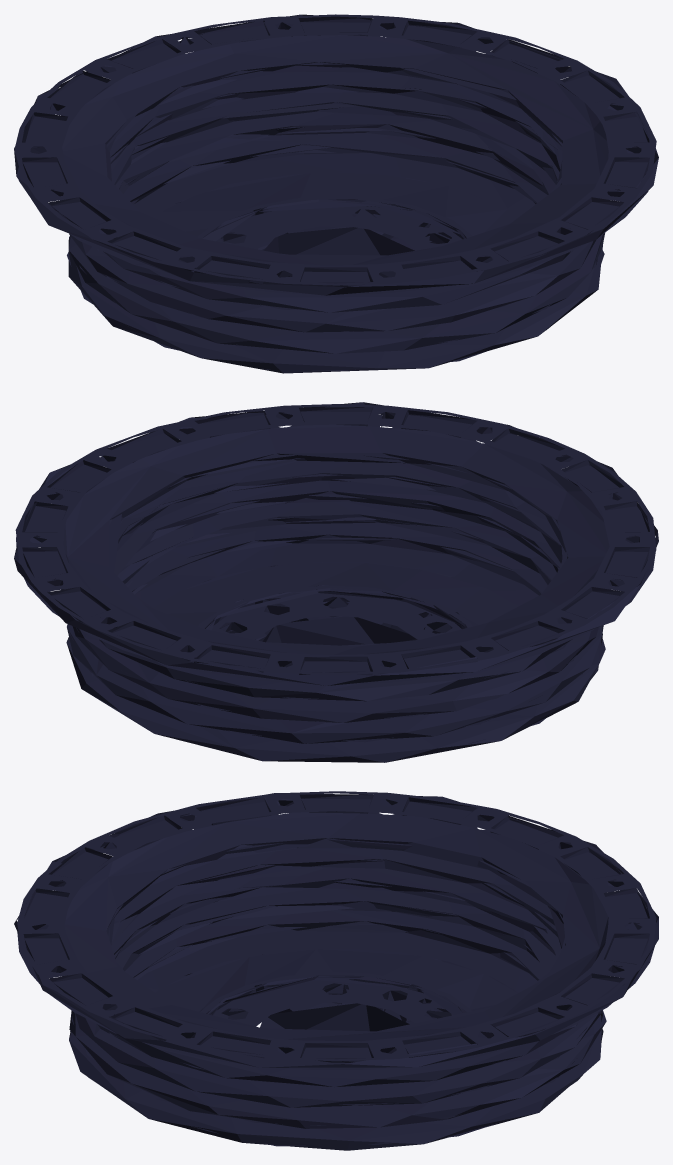
Rendered from rear_right_steer_129.dae.
The picture shows the model from 3 angles, top to bottom: view 1: azimuth 30°, elevation 25°; view 2: azimuth 150°, elevation 25°; view 3: azimuth 270°, elevation 25°; orthographic projection.
Parts seen in each view (by area): view 1: node; view 2: node; view 3: node.
Boxes of the visible parts, left/top/right/bottom form: node: left=14, top=14, right=658, bottom=373; node: left=14, top=402, right=658, bottom=762; node: left=14, top=791, right=658, bottom=1150.
Size of the model in its own units: 0.1998 by 0.1977 by 0.0484.
